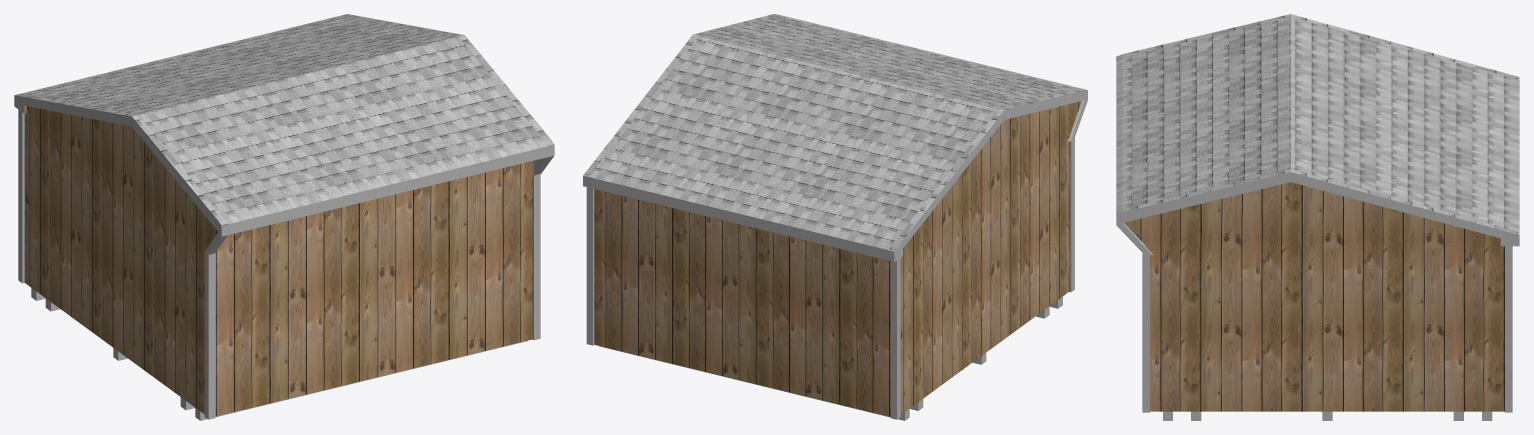
Rendered from Quaker Sheds_12x12.obj.
3 renders of one model, left to right at view 1: azimuth 30°, elevation 25°; view 2: azimuth 150°, elevation 25°; view 3: azimuth 270°, elevation 25°, orthographic. The views are drawn at different scales.
Parts seen in each view (by area): view 1: Shed, Roof, Sides, Trim, Floor; view 2: Shed, Roof, Sides, Trim, Floor; view 3: Shed, Roof, Sides, Trim, Floor.
Boxes of the visible parts, x1,y1,x2,y2 form: Shed: [24, 106, 533, 416]; Roof: [15, 14, 554, 225]; Sides: [14, 95, 554, 256]; Trim: [18, 109, 540, 419]; Floor: [31, 288, 527, 420]; Shed: [594, 101, 1081, 416]; Roof: [583, 14, 1086, 251]; Sides: [583, 90, 1087, 261]; Trim: [586, 138, 1074, 419]; Floor: [599, 296, 1062, 420]; Shed: [1124, 182, 1504, 411]; Roof: [1116, 14, 1519, 234]; Sides: [1116, 172, 1519, 255]; Trim: [1142, 246, 1512, 412]; Floor: [1163, 411, 1492, 420].
Size of the model in its own units: 3.72 by 2.74 by 4.01.
